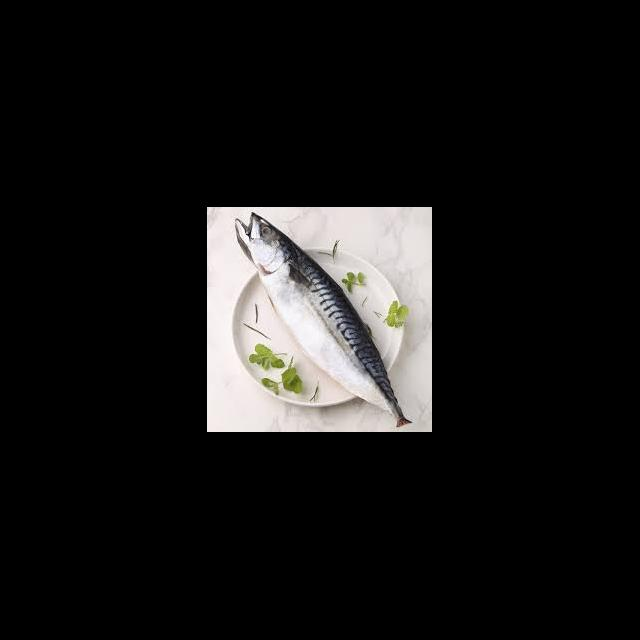fish: (237, 213, 412, 427)
